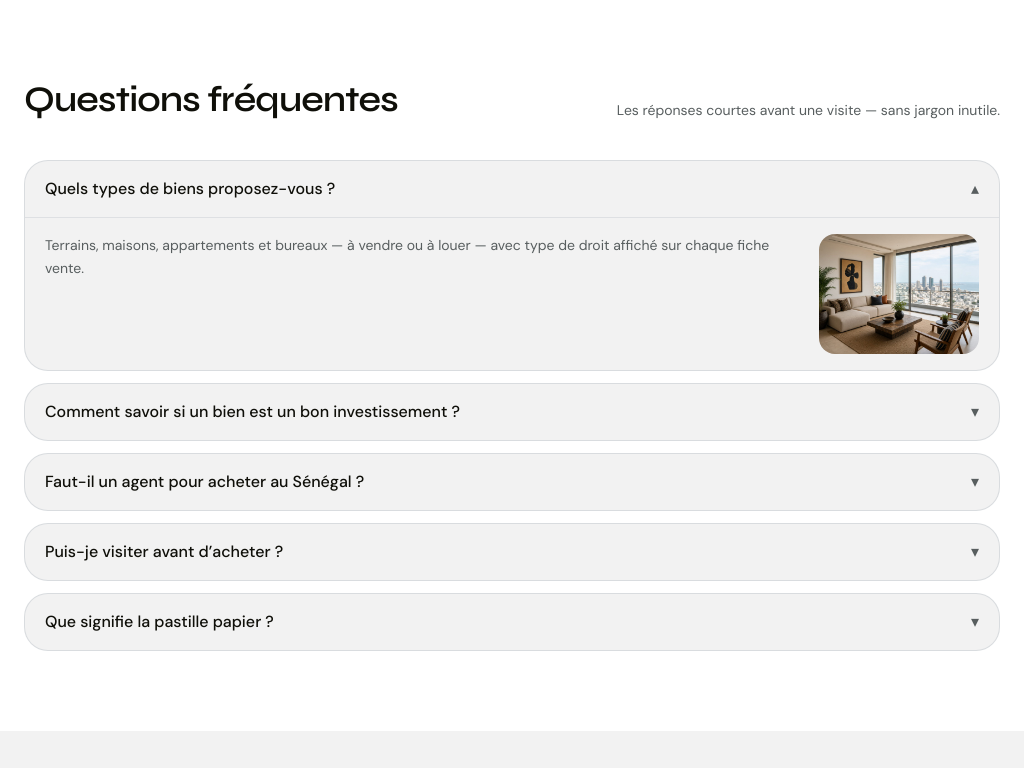
Scenario: HomeFaq › expands and collapses accordion items
Click the button "Quels types de biens proposez-vous ? ▴" at (190, 188), box [25,161,999,217]
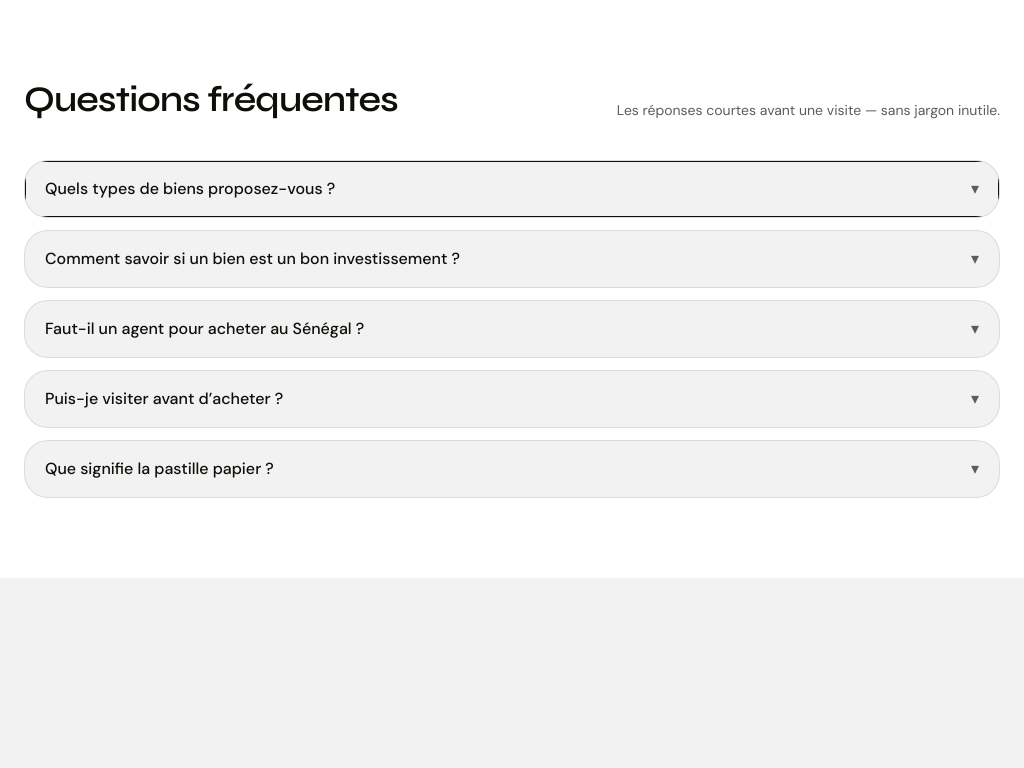
Now the button "Quels types de biens proposez-vous ? ▾" is collapsed, box [25,161,999,217]
Click the button "Comment savoir si un bien est un bon investissement ? ▾" at (253, 258), box [25,231,999,287]
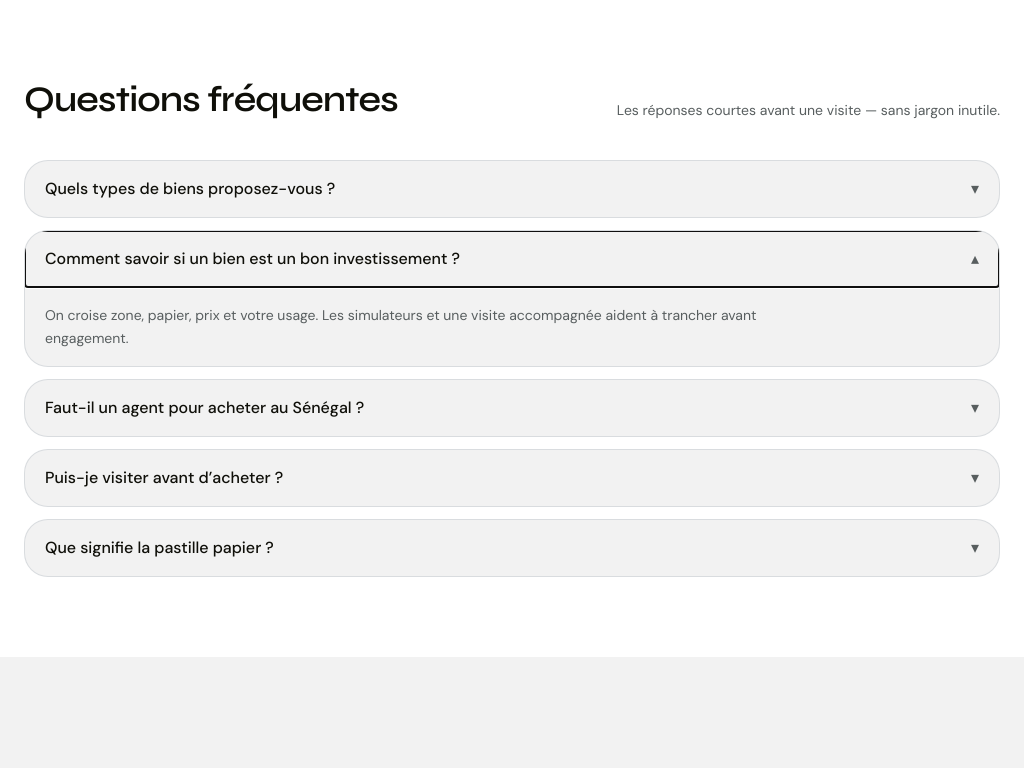
Now the button "Comment savoir si un bien est un bon investissement ? ▴" is expanded, box [25,231,999,287]
